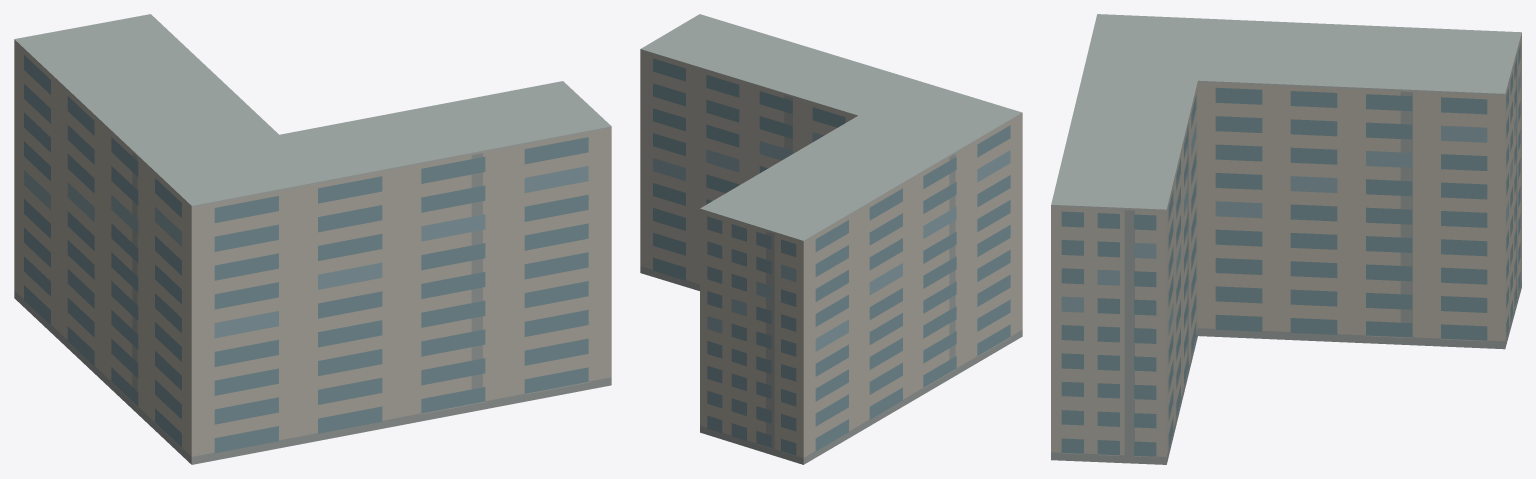
File: survey-upis-32926626.glb
The picture shows the model from 3 angles, left to right: view 1: azimuth 30°, elevation 25°; view 2: azimuth 150°, elevation 25°; view 3: azimuth 270°, elevation 25°; orthographic projection. The views are drawn at different scales.
Parts seen in each view (by area): view 1: survey-upis-32926626.tmp; view 2: survey-upis-32926626.tmp; view 3: survey-upis-32926626.tmp.
Part boxes in pixels (left/top/right/bottom): survey-upis-32926626.tmp: left=14, top=14, right=611, bottom=464; survey-upis-32926626.tmp: left=640, top=14, right=1022, bottom=464; survey-upis-32926626.tmp: left=1051, top=14, right=1521, bottom=464.
Bounding box in the file's own units: 45.1 × 27.45 × 45.88.
